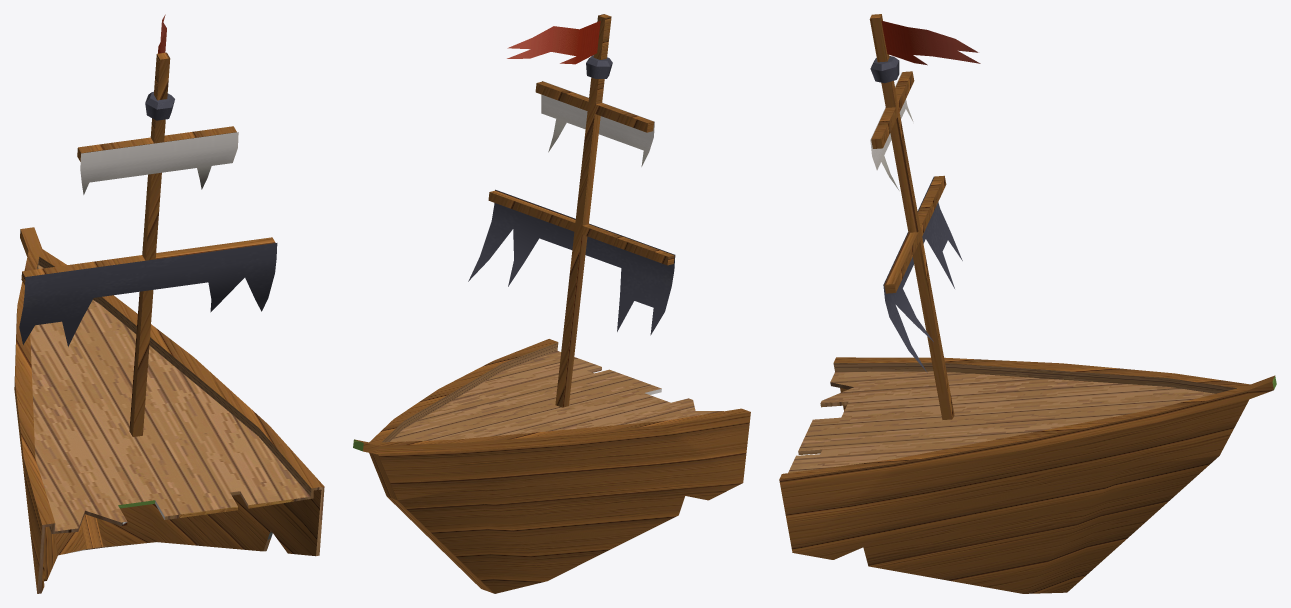
Rendered from Barca_rotta.fbx.
3 views of the same model, side by side, from view 1: azimuth 30°, elevation 25°; view 2: azimuth 150°, elevation 25°; view 3: azimuth 270°, elevation 25° (orthographic). The views are drawn at different scales.
Visible parts, largest first — view 1: defaultMaterial.019; view 2: defaultMaterial.019; view 3: defaultMaterial.019.
Boxes of the visible parts, <box> form: defaultMaterial.019: <box>14,14,324,593</box>; defaultMaterial.019: <box>353,14,750,593</box>; defaultMaterial.019: <box>779,14,1276,593</box>.
Bounding box in the file's own units: 4.77 × 9.81 × 7.92.
